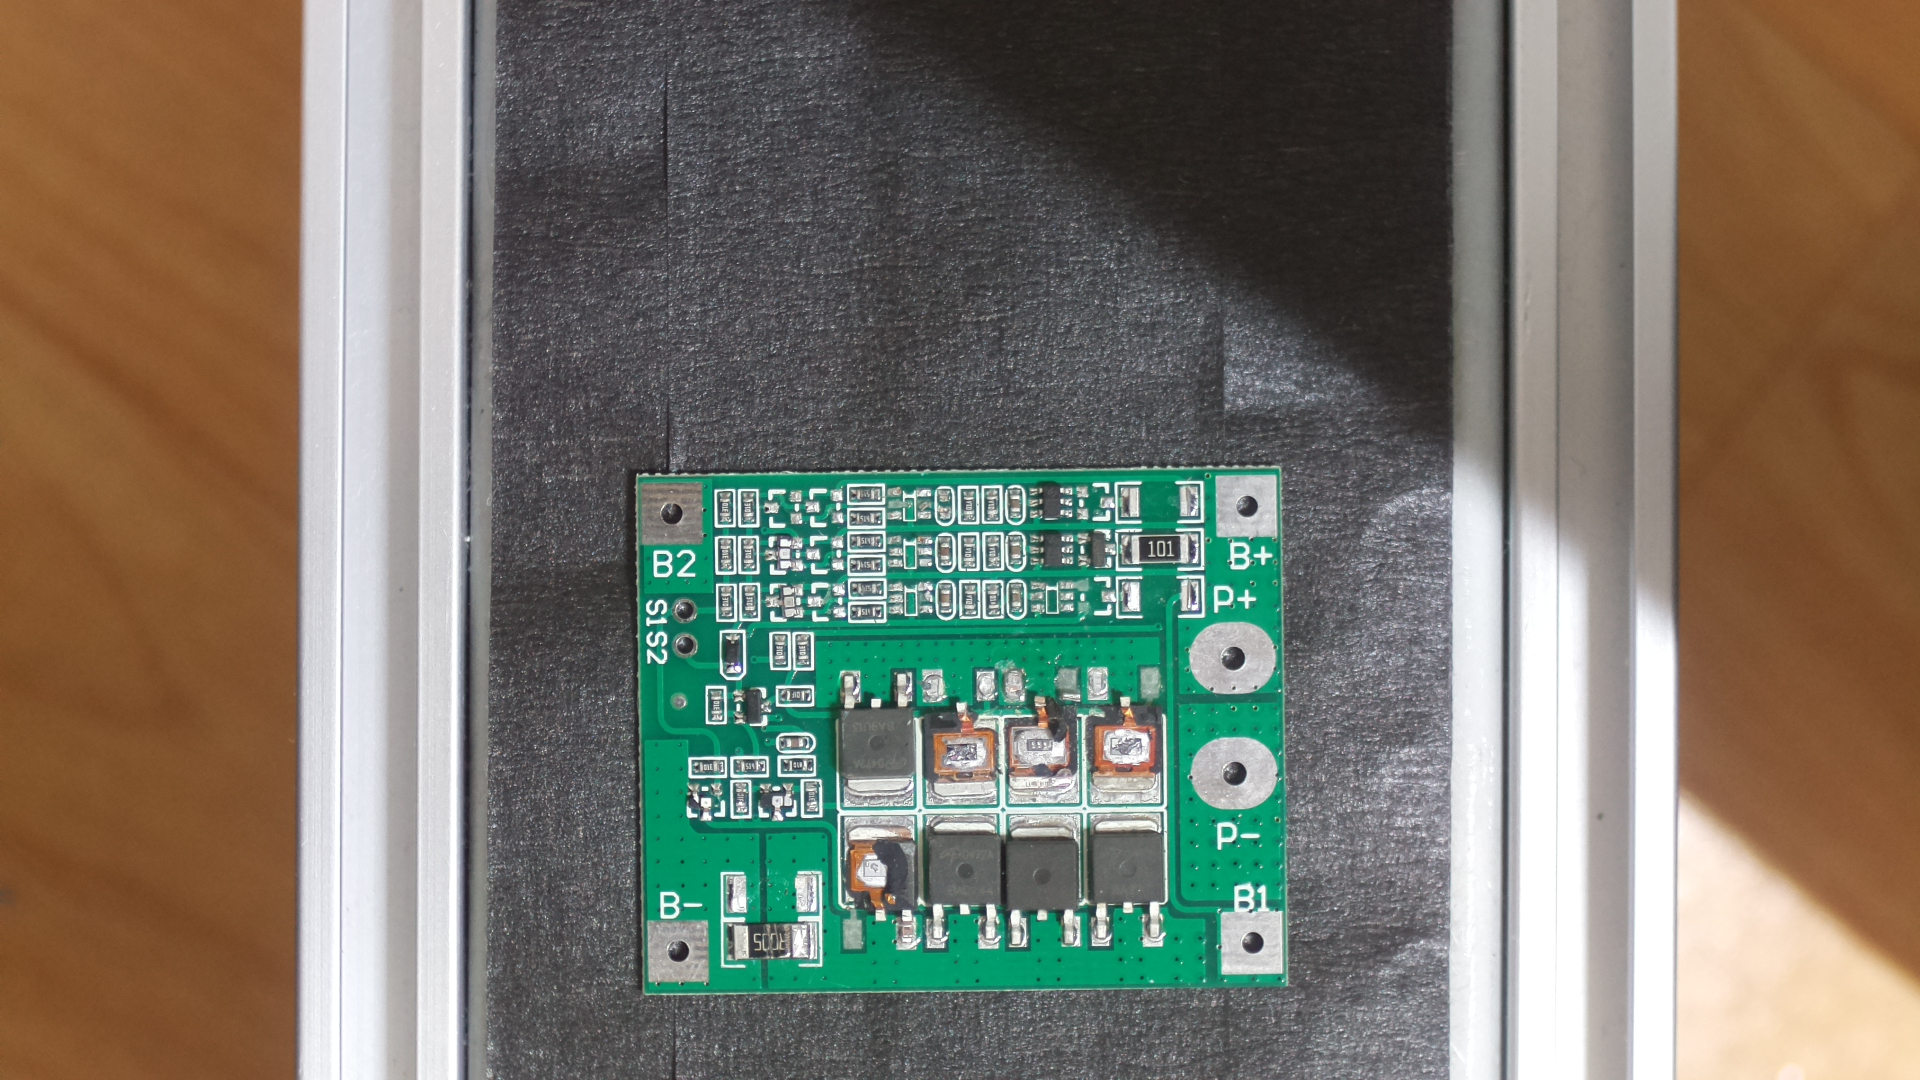C_Missing_part: (624, 448, 1308, 1015)
